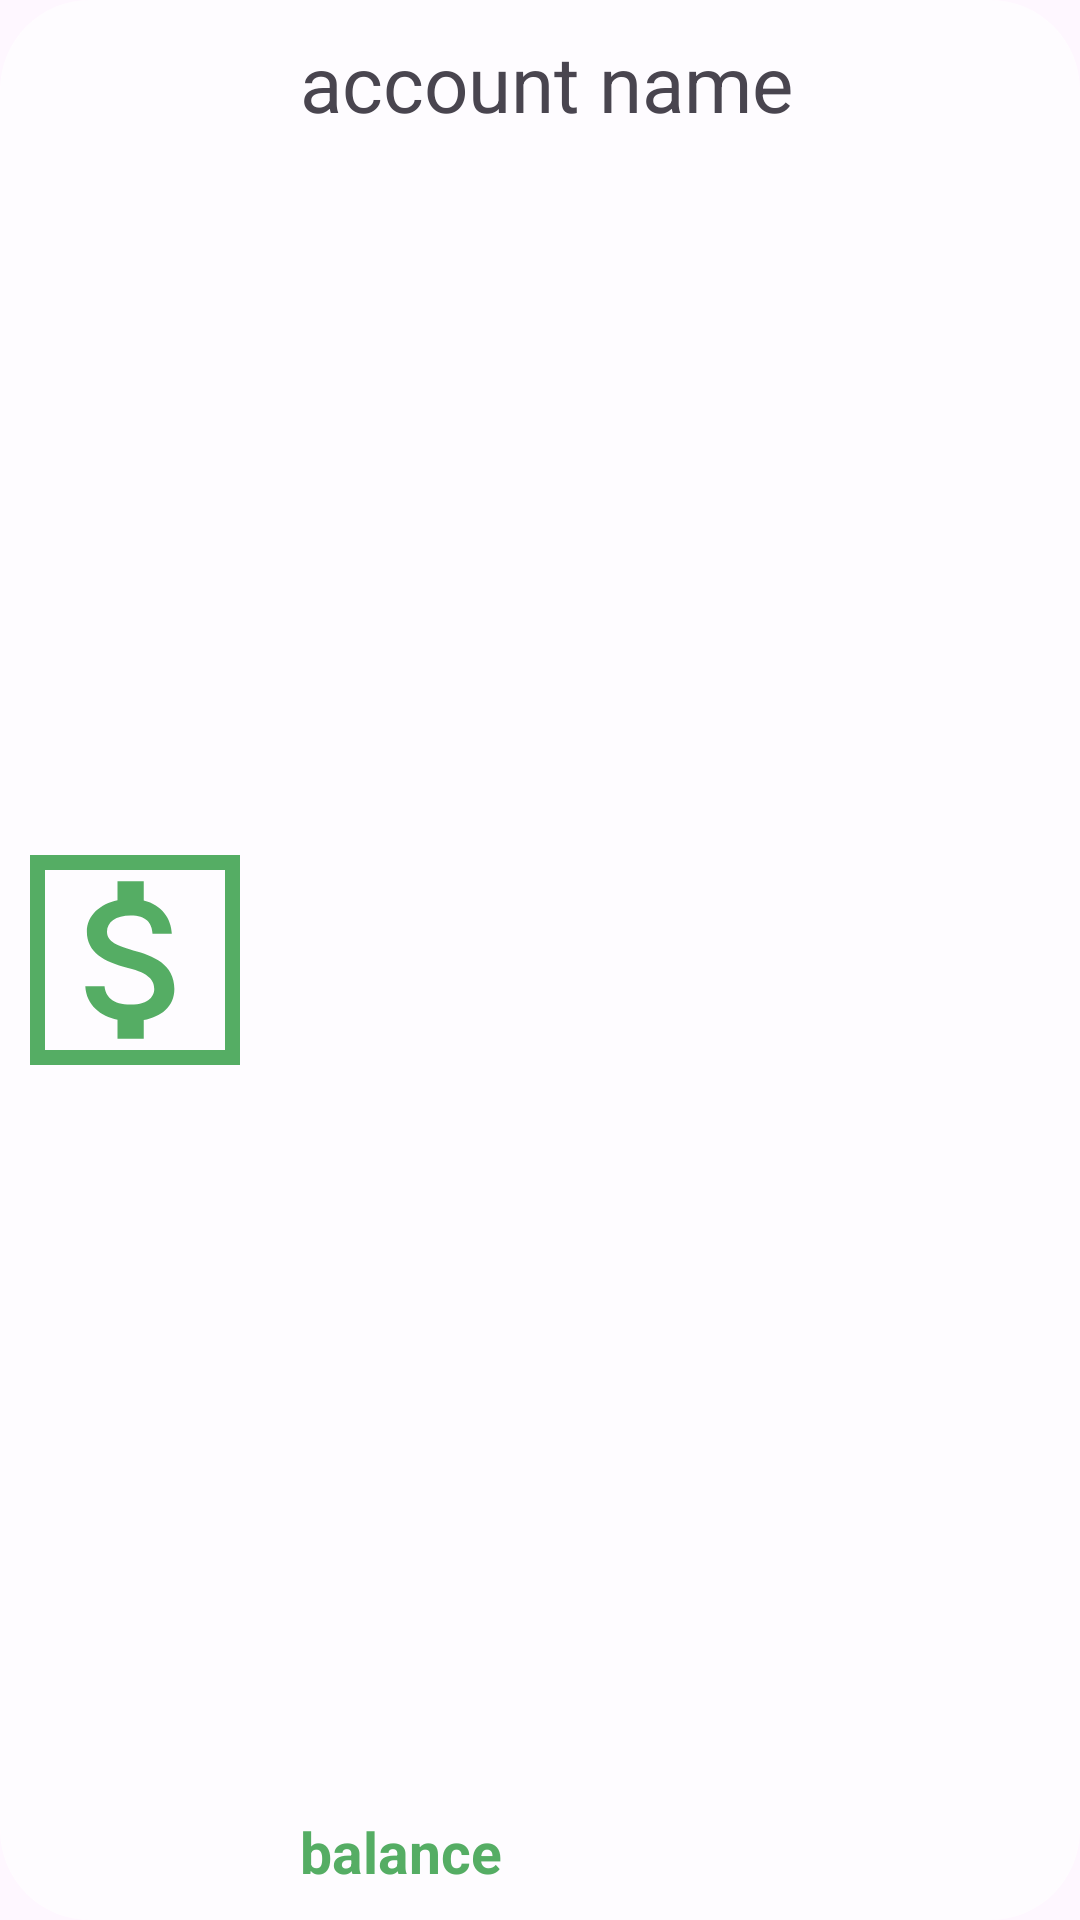

Icon click points for this 1080*1920 phone screenshot, format (x,y):
attach money: (135,960)
